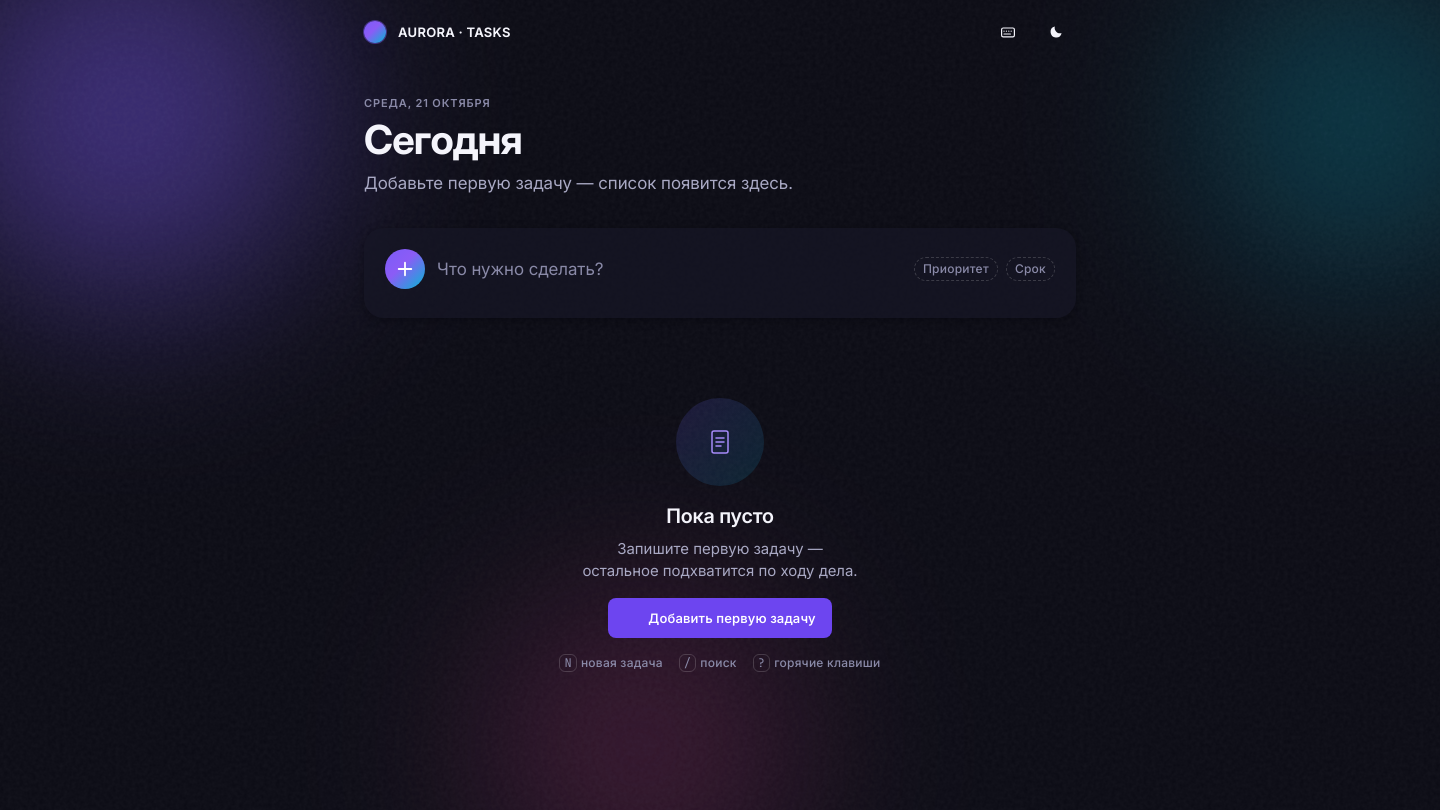
Test: App › wires Composer, Toolbar and TaskList together — adding a task shows it in the list
The image size is (1440, 810).
In the text box named "Текст новой задачи": {"x": 669, "y": 269} [437, 256, 902, 282], type "Купить молоко"
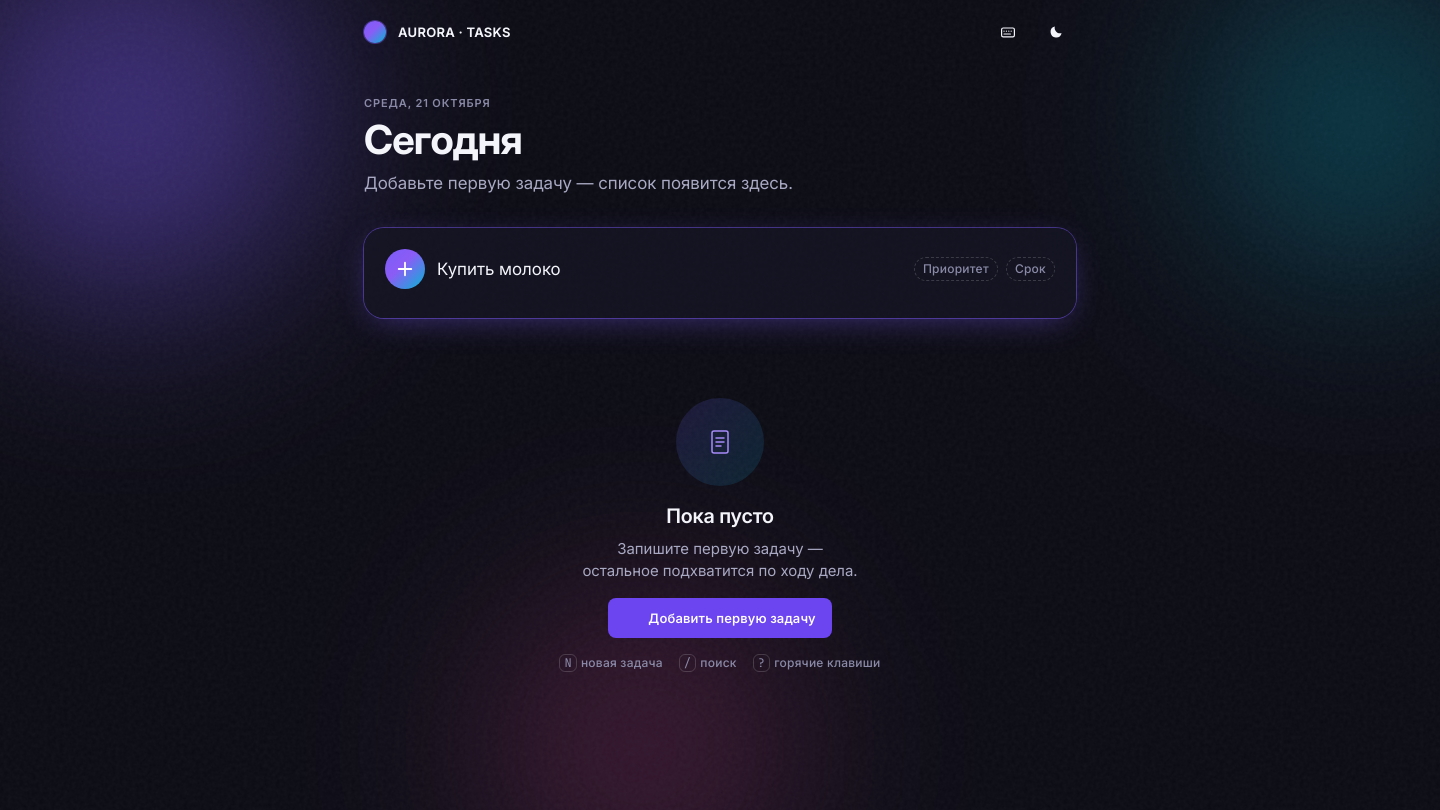
Click the button named "Добавить задачу в список": {"x": 405, "y": 269} [385, 249, 425, 289]
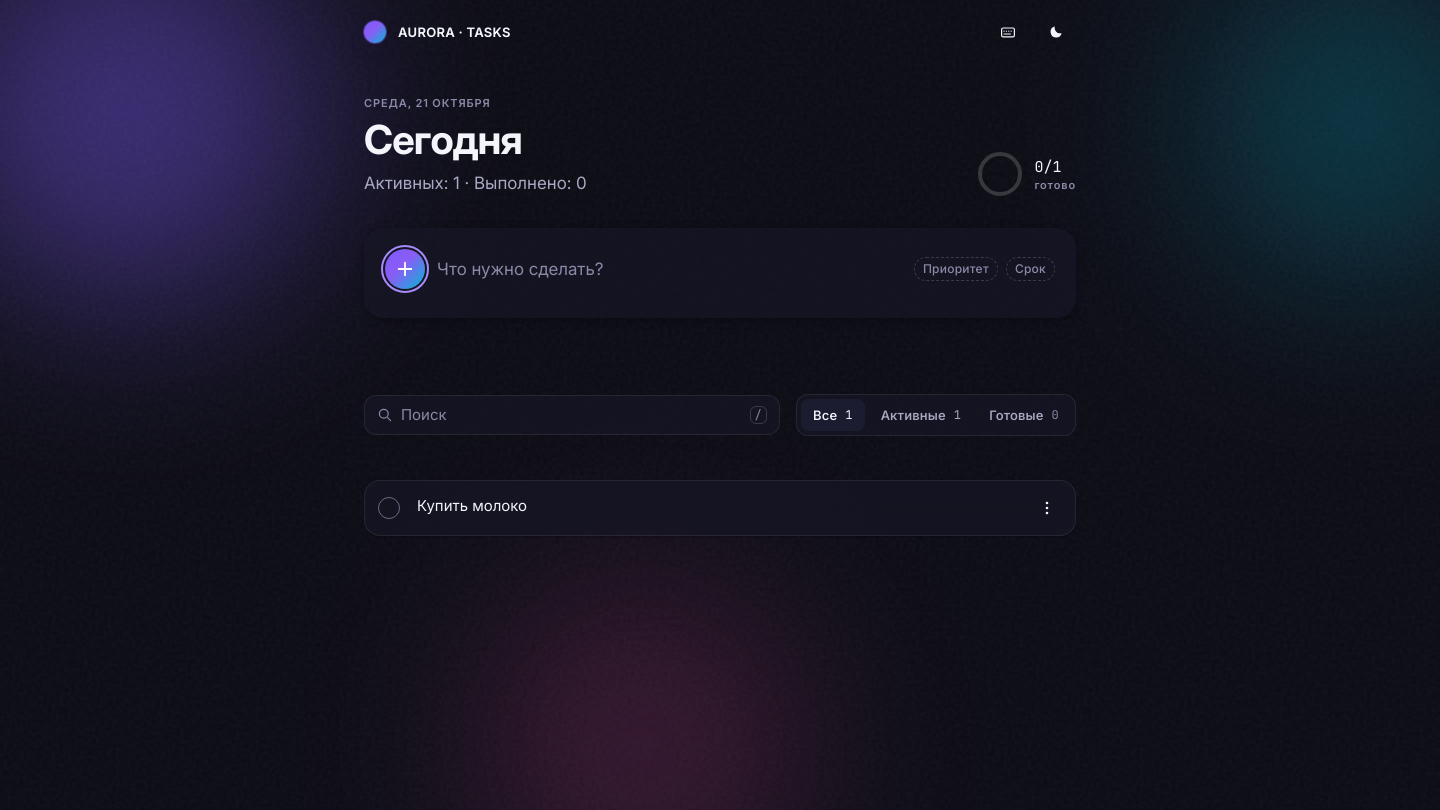
expect the panel is shown: met, box [364, 480, 1076, 536]
expect the text "Купить молоко" is shown: met, box [417, 496, 527, 515]
